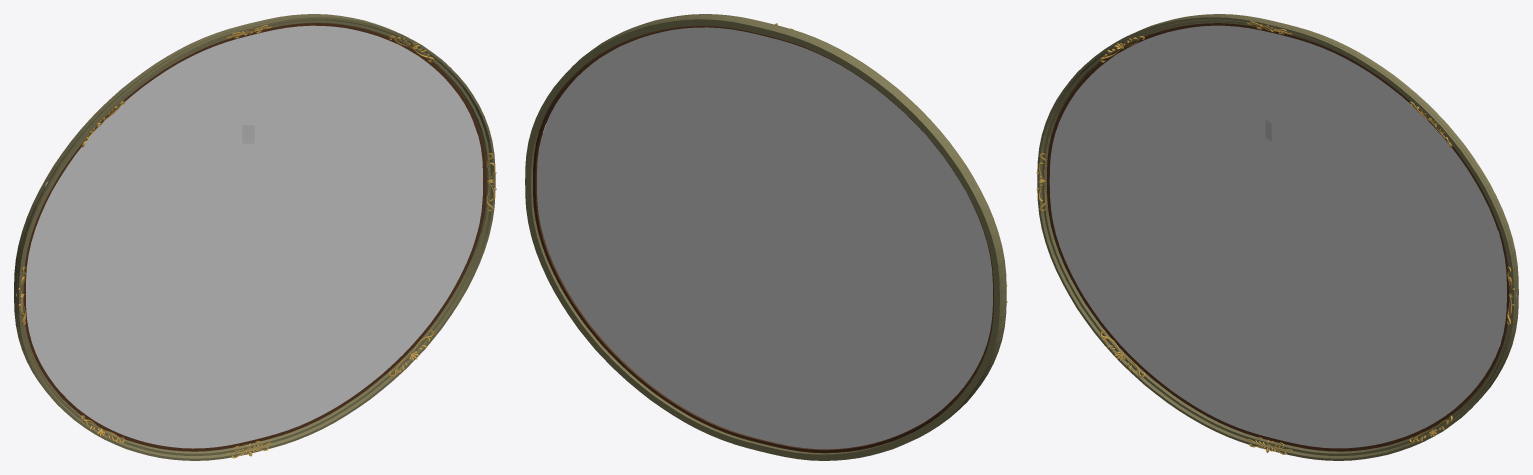
Rendered from frame002_m.glb.
3 renders of one model, left to right at view 1: azimuth 30°, elevation 25°; view 2: azimuth 150°, elevation 25°; view 3: azimuth 330°, elevation 25°, orthographic.
Parts seen in each view (by area): view 1: canvas_平面, frame_Cube.003, frame_inner_Cube.001, moyou022; view 2: canvas_平面, frame_Cube.003, frame_inner_Cube.001; view 3: canvas_平面, frame_Cube.003, frame_inner_Cube.001, moyou022.
Part boxes in pixels (bbox=[...]): canvas_平面: bbox=[16, 25, 482, 448]; frame_Cube.003: bbox=[14, 14, 495, 460]; frame_inner_Cube.001: bbox=[23, 23, 485, 451]; moyou022: bbox=[81, 35, 433, 443]; canvas_平面: bbox=[537, 27, 1003, 449]; frame_Cube.003: bbox=[525, 14, 1006, 460]; frame_inner_Cube.001: bbox=[533, 25, 993, 453]; canvas_平面: bbox=[1049, 25, 1516, 448]; frame_Cube.003: bbox=[1037, 14, 1518, 460]; frame_inner_Cube.001: bbox=[1047, 23, 1509, 451]; moyou022: bbox=[1100, 36, 1452, 443].
Bounding box in the file's own units: 62.18 × 53.18 × 1.63.
